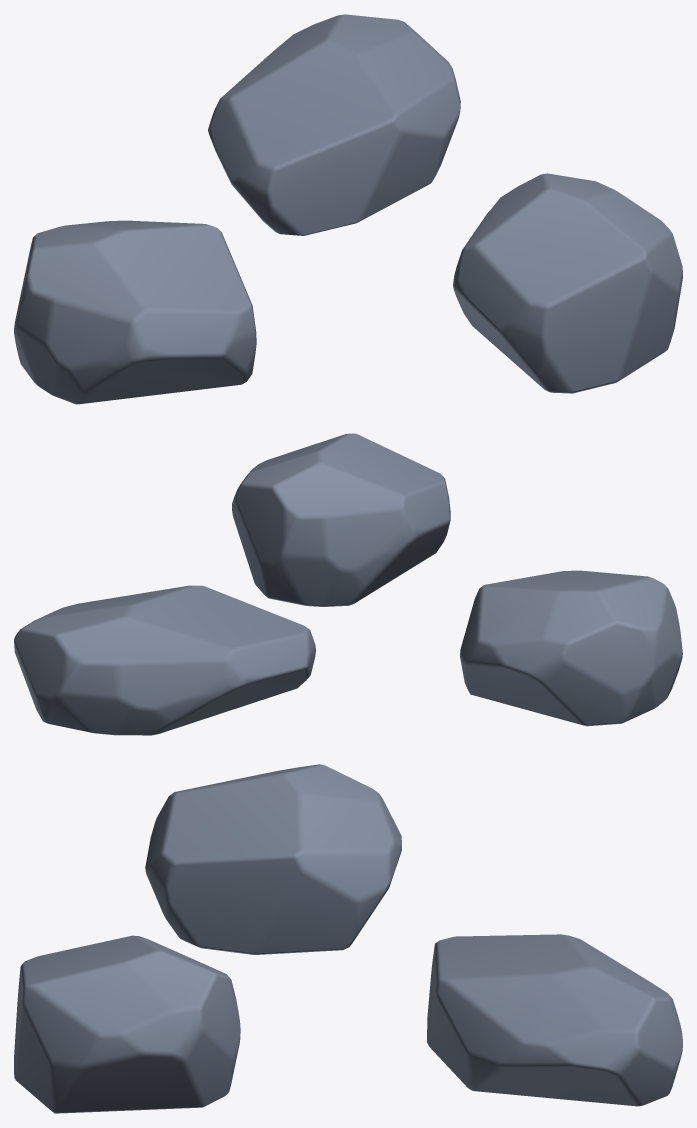
Rendered from Stone_01_lvl.fbx.
3 views of the same model, one above another, from view 1: azimuth 30°, elevation 25°; view 2: azimuth 150°, elevation 25°; view 3: azimuth 270°, elevation 25° (orthographic). The views are drawn at different scales.
Parts seen in each view (by area): view 1: Icosphere.028; view 2: Icosphere.028; view 3: Icosphere.028.
Part boxes in pixels (<box>): Icosphere.028: <box>14,14,682,404</box>; Icosphere.028: <box>14,433,682,735</box>; Icosphere.028: <box>14,764,682,1113</box>.
Size of the model in its own units: 56.81 by 13 by 58.84.
